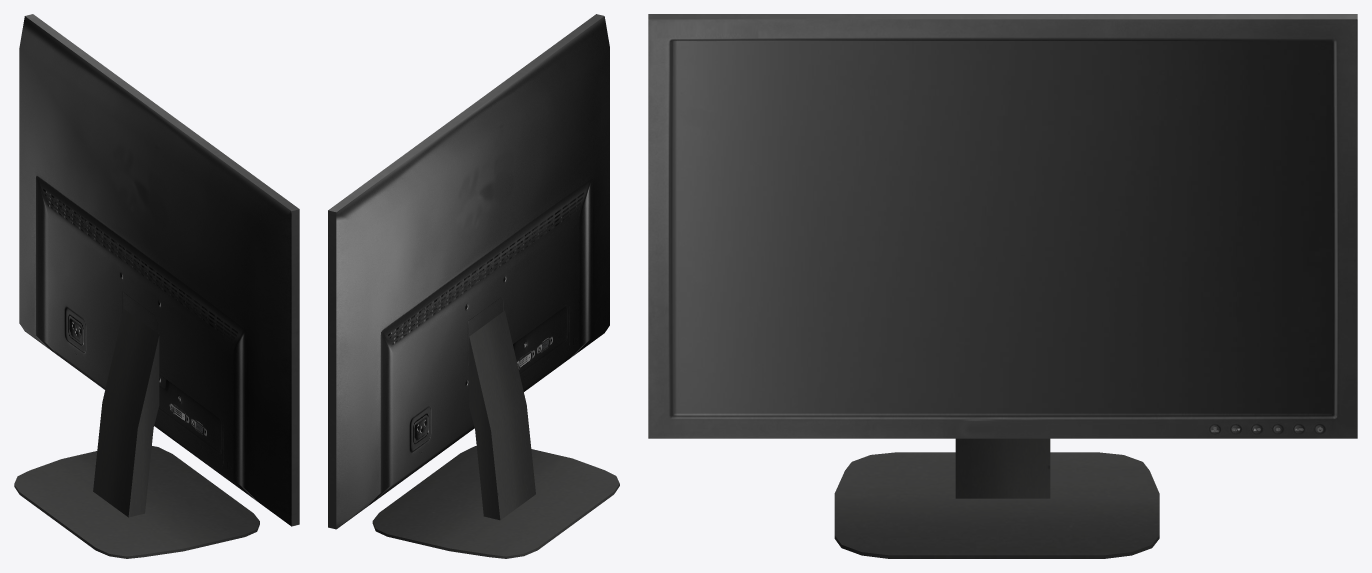
File: Monitor01.FBX
3 renders of one model, left to right at view 1: azimuth 30°, elevation 25°; view 2: azimuth 150°, elevation 25°; view 3: azimuth 270°, elevation 25°, orthographic. The views are drawn at different scales.
Parts seen in each view (by area): view 1: Monitor01; view 2: Monitor01; view 3: Monitor01.
Part boxes in pixels (x1,y1,x2,y2): Monitor01: (14, 14, 299, 558); Monitor01: (328, 14, 619, 558); Monitor01: (648, 14, 1357, 558).
Bounding box in the file's own units: 5.61 × 13.24 × 16.67.
